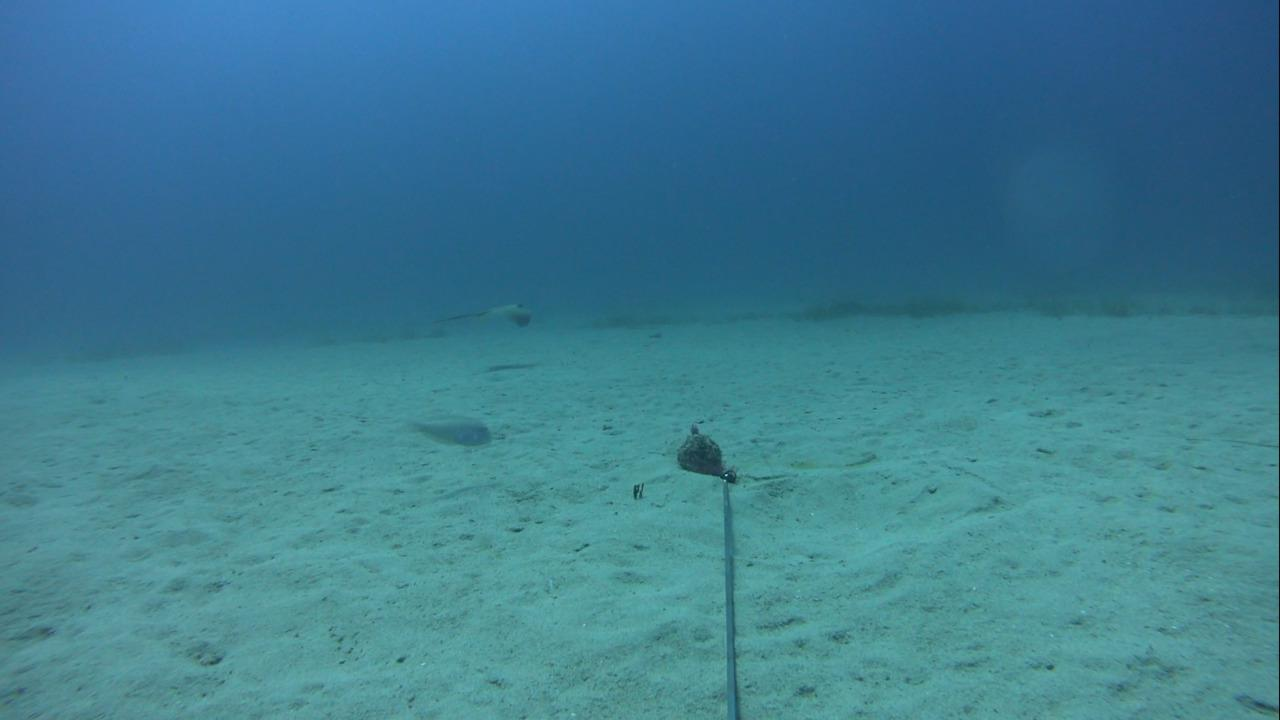myliobatis: (420, 297, 538, 334)
raor: (387, 411, 494, 453)
